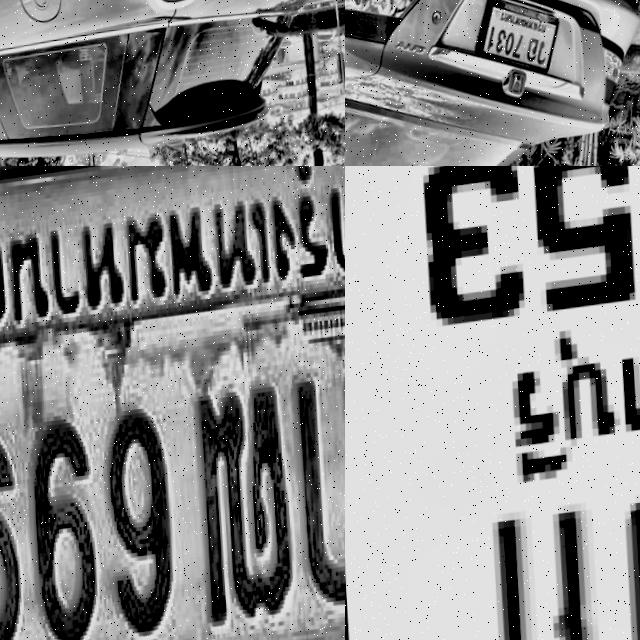license-plate: (0, 166, 345, 640), (345, 166, 640, 640), (470, 0, 565, 95)
